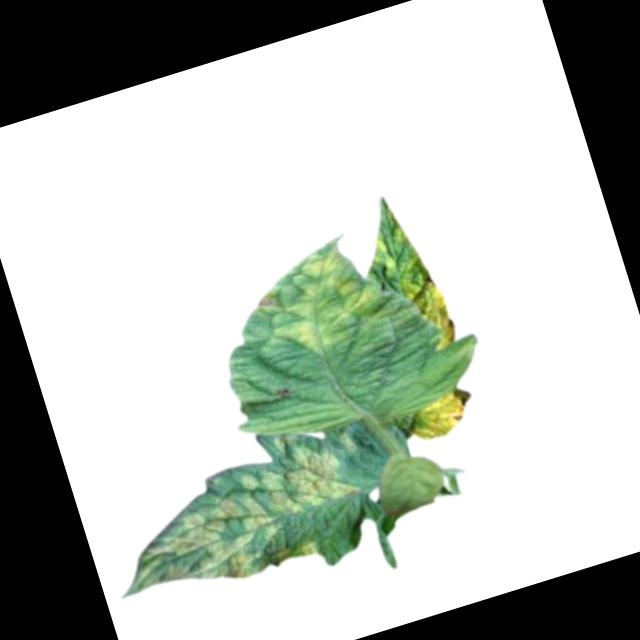Leaf_Mold: (89, 421, 365, 617), (246, 232, 391, 364), (401, 269, 463, 357), (401, 382, 479, 444)
